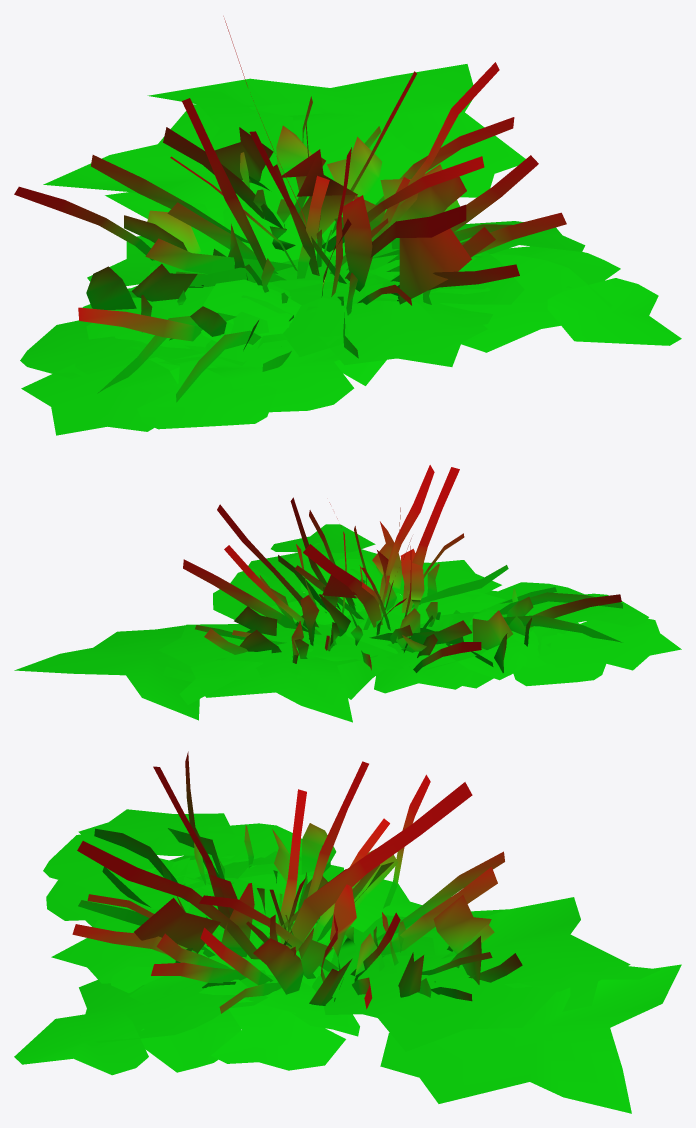
Rendered from Var13_LOD1.fbx.
3 renders of one model, top to bottom at view 1: azimuth 30°, elevation 25°; view 2: azimuth 150°, elevation 25°; view 3: azimuth 270°, elevation 25°, orthographic. The views are drawn at different scales.
Visible parts, largest first — view 1: _1f6w_Var13_LOD1; view 2: _1f6w_Var13_LOD1; view 3: _1f6w_Var13_LOD1.
Boxes of the visible parts, box(x1,y1,x2,y2) form: _1f6w_Var13_LOD1: box(14, 16, 681, 435); _1f6w_Var13_LOD1: box(14, 465, 681, 722); _1f6w_Var13_LOD1: box(14, 751, 681, 1113).
Bounding box in the file's own units: 96.35 × 28.14 × 88.39.
